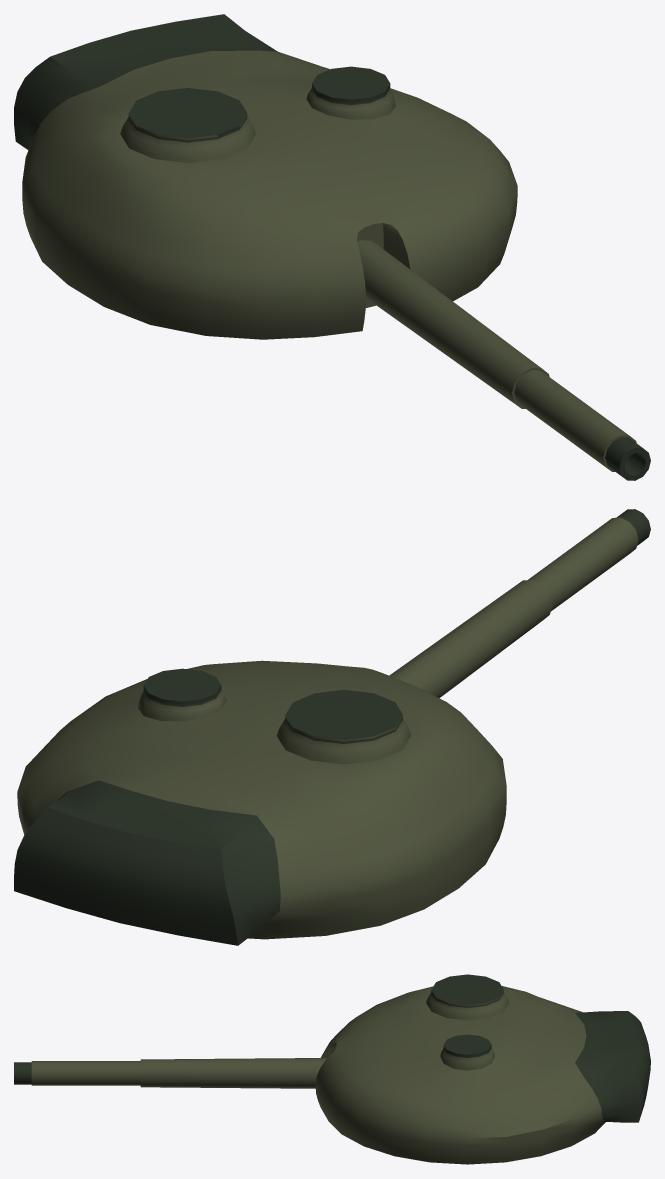
The model's file is T72 Turret.fbx.
The picture shows the model from 3 angles, top to bottom: view 1: azimuth 30°, elevation 25°; view 2: azimuth 150°, elevation 25°; view 3: azimuth 270°, elevation 25°; orthographic projection. The views are drawn at different scales.
Parts seen in each view (by area): view 1: T72-Turret, T72-Cannon; view 2: T72-Turret, T72-Cannon; view 3: T72-Turret, T72-Cannon.
Boxes of the visible parts, x1=… form: T72-Turret: x1=14, y1=14, x2=517, y2=339; T72-Cannon: x1=357, y1=240, x2=650, y2=480; T72-Turret: x1=14, y1=660, x2=506, y2=945; T72-Cannon: x1=389, y1=509, x2=650, y2=698; T72-Turret: x1=315, y1=974, x2=650, y2=1164; T72-Cannon: x1=14, y1=1058, x2=327, y2=1088.
Bounding box in the file's own units: 213 × 70.61 × 460.
